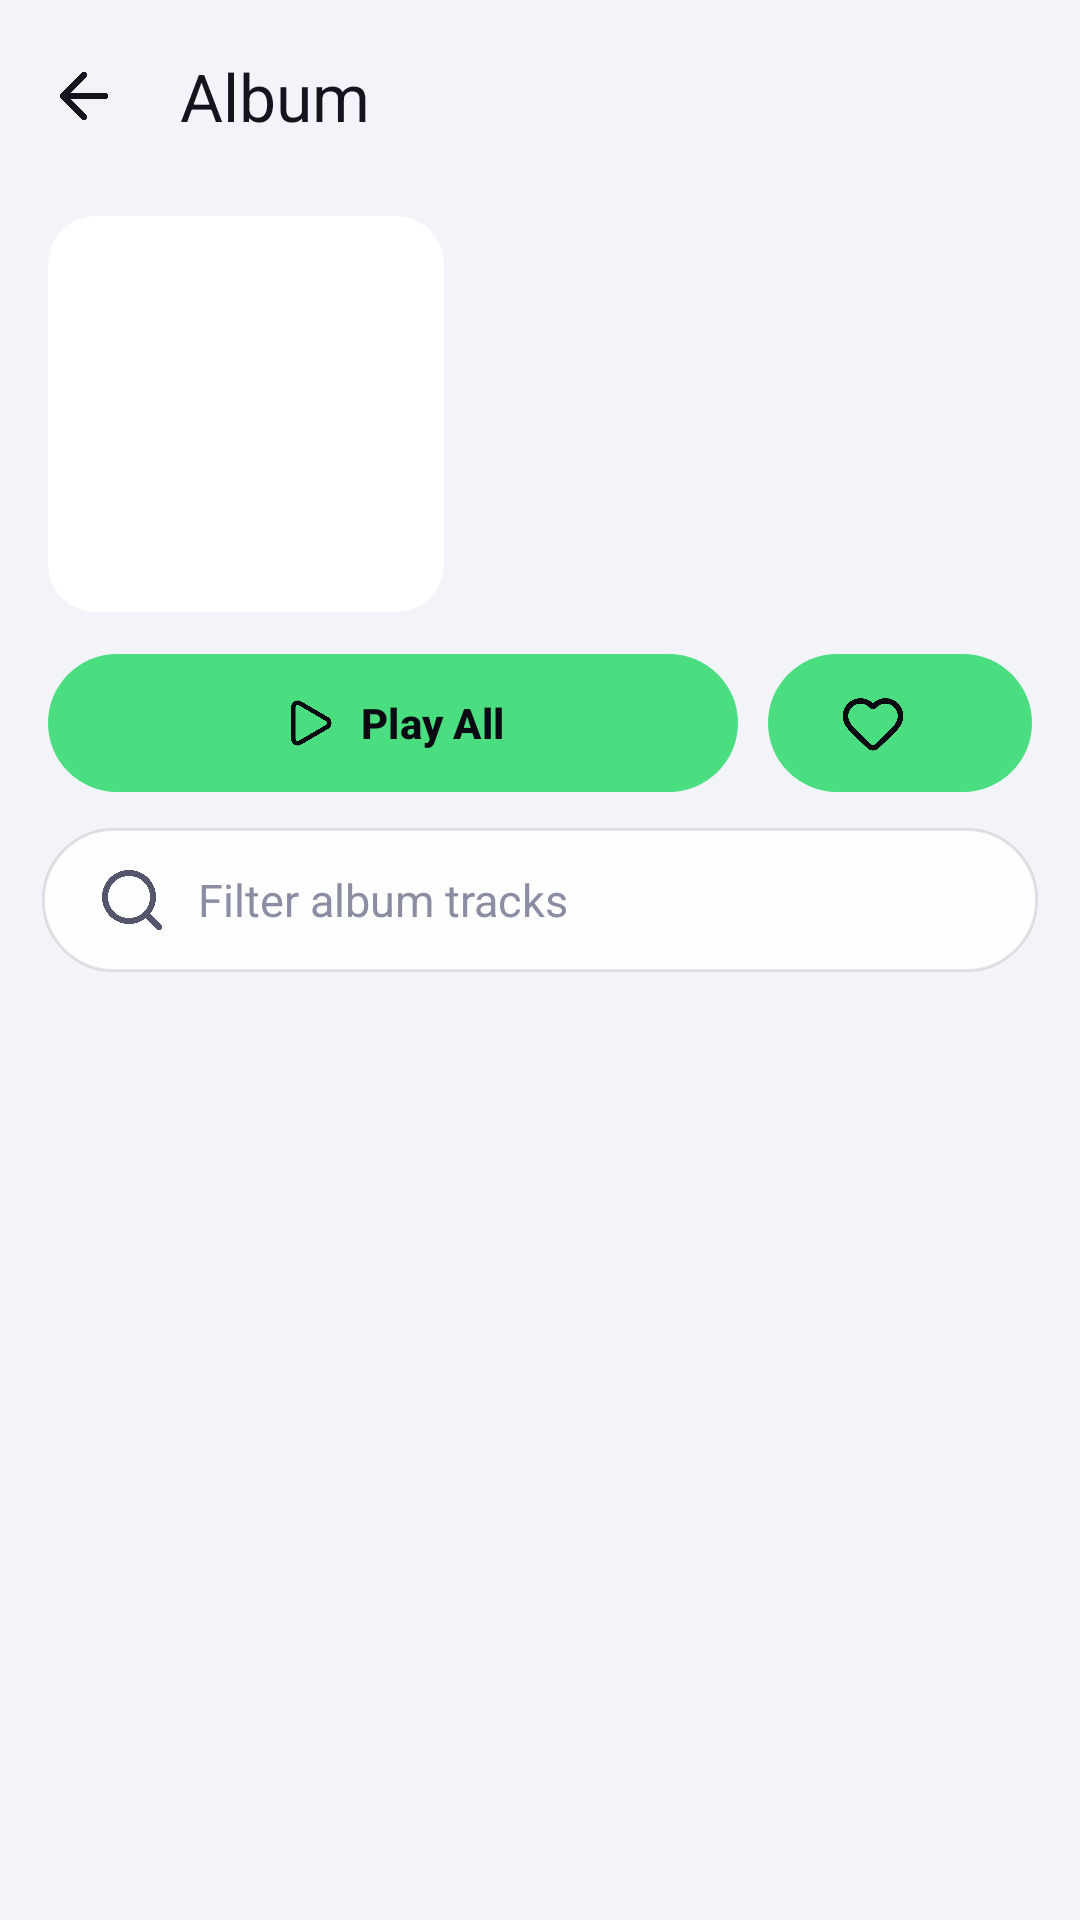

Where to tap for icons on this 1080px x 1920px app screen, as point (x, y):
Save Album: point (900, 723)
